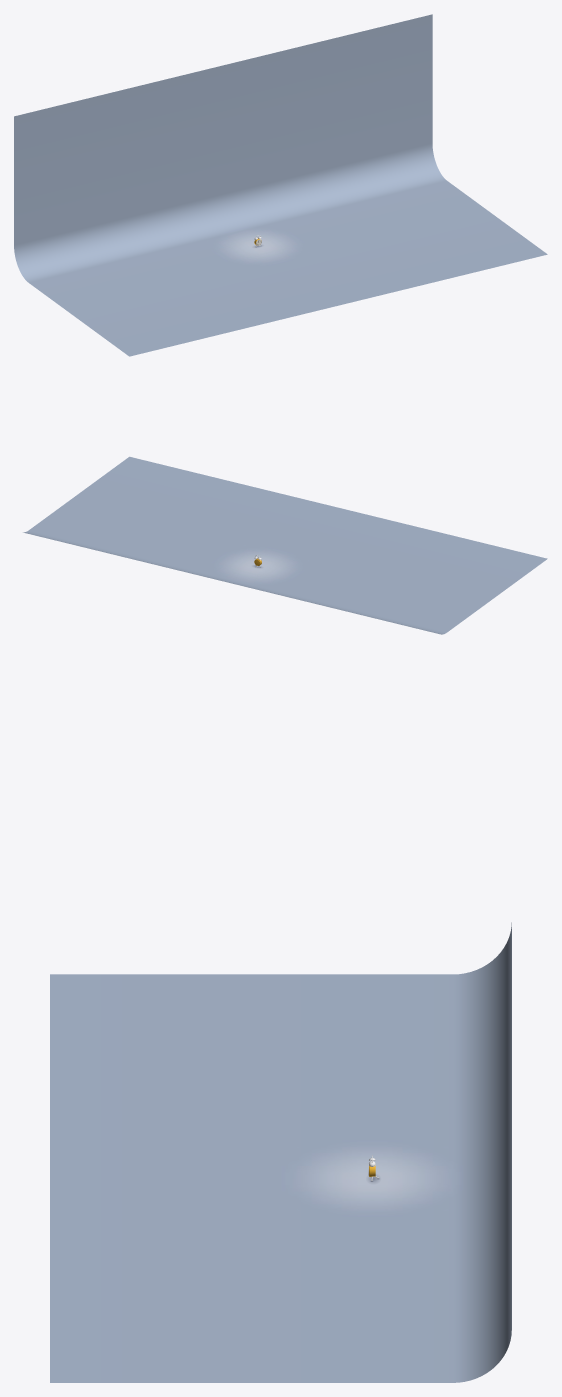
Rendered from alarm.glb.
3 renders of one model, top to bottom at view 1: azimuth 30°, elevation 25°; view 2: azimuth 150°, elevation 25°; view 3: azimuth 270°, elevation 25°, orthographic. The views are drawn at different scales.
Parts seen in each view (by area): view 1: Sweep; view 2: Sweep; view 3: Sweep.
Boxes of the visible parts, <box> form: Sweep: <box>14,14,547,356</box>; Sweep: <box>23,456,547,634</box>; Sweep: <box>50,922,511,1382</box>.
Size of the model in its own units: 9 by 3.2 by 4.3.
9 materials, 2 textured.
